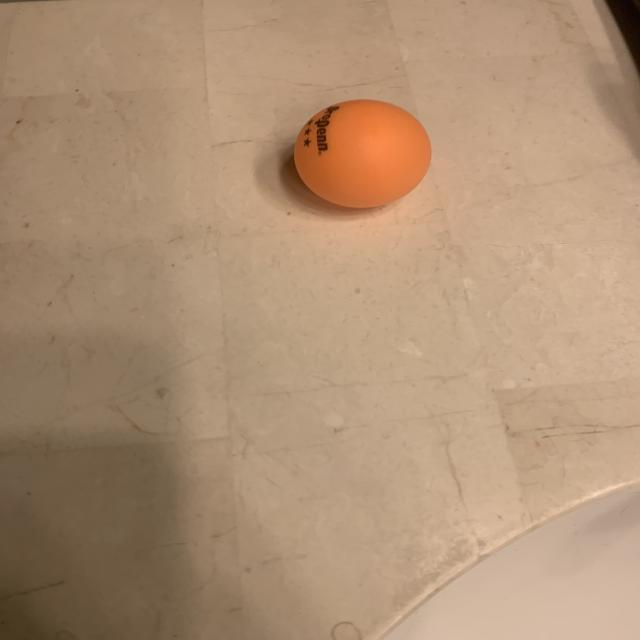ping-pong-ball: (288, 90, 441, 214)
